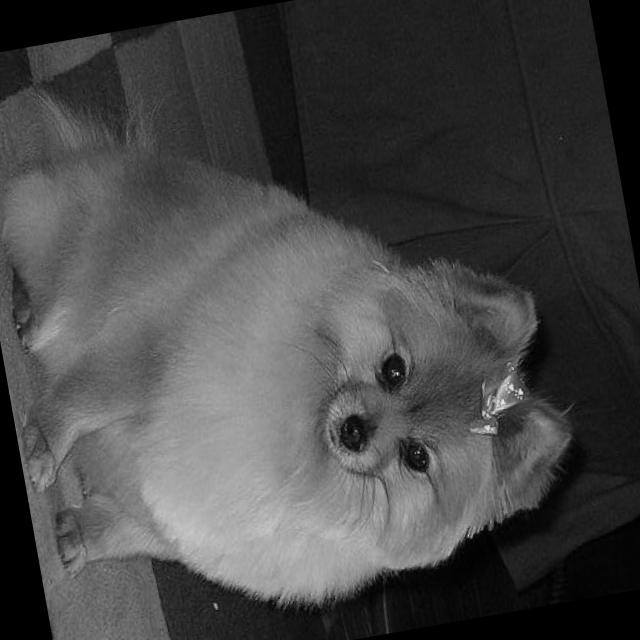sitting: (0, 58, 606, 640)
